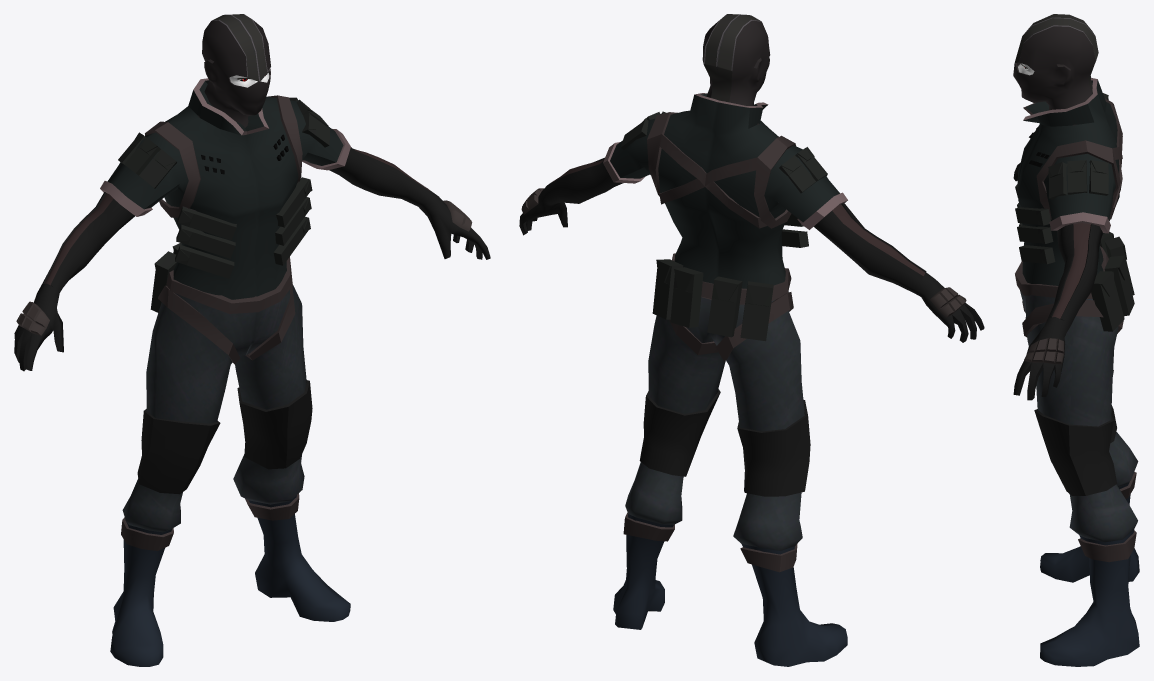
Rendered from Intruder.fbx.
3 views of the same model, side by side, from view 1: azimuth 30°, elevation 25°; view 2: azimuth 150°, elevation 25°; view 3: azimuth 270°, elevation 25° (orthographic). The views are drawn at different scales.
Parts seen in each view (by area): view 1: Intruder_01; view 2: Intruder_01; view 3: Intruder_01.
Boxes of the visible parts, x1=… form: Intruder_01: x1=14, y1=14, x2=490, y2=666; Intruder_01: x1=519, y1=14, x2=984, y2=666; Intruder_01: x1=1013, y1=14, x2=1139, y2=666.
Bounding box in the file's own units: 144 × 185 × 35.39.
